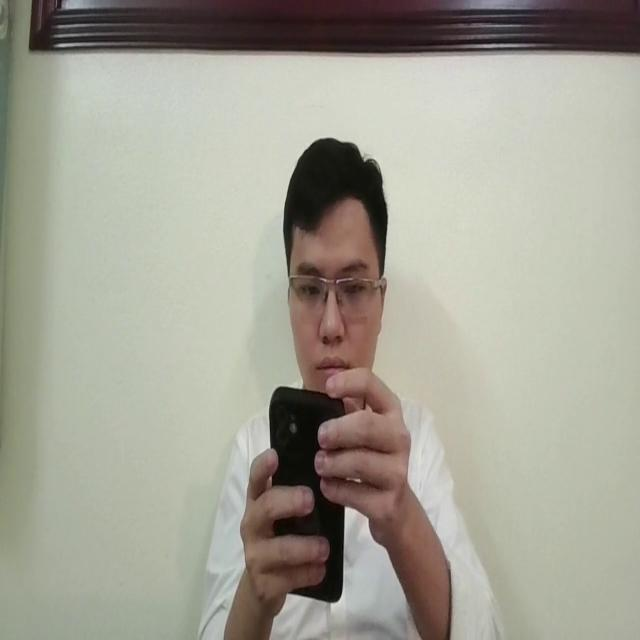phone: (264, 382, 352, 608)
student: (185, 124, 507, 640)
